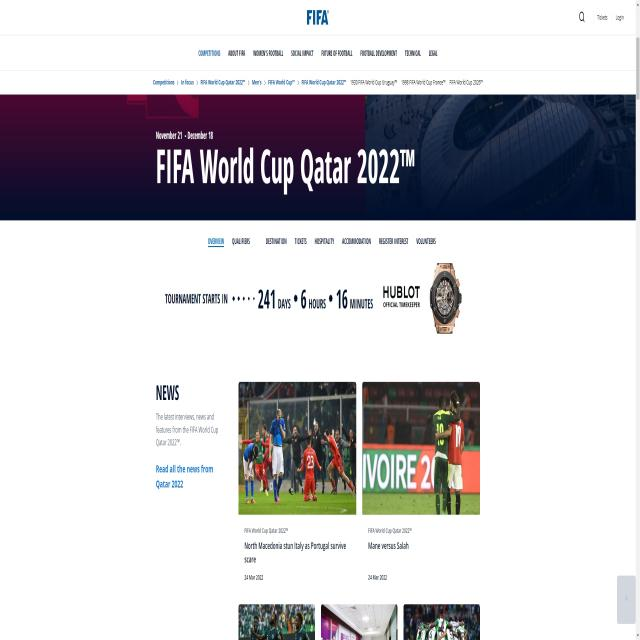content: (153, 386, 221, 453)
menu-bar: (573, 1, 631, 35)
tab-bar: (192, 41, 444, 68), (205, 234, 441, 255)
